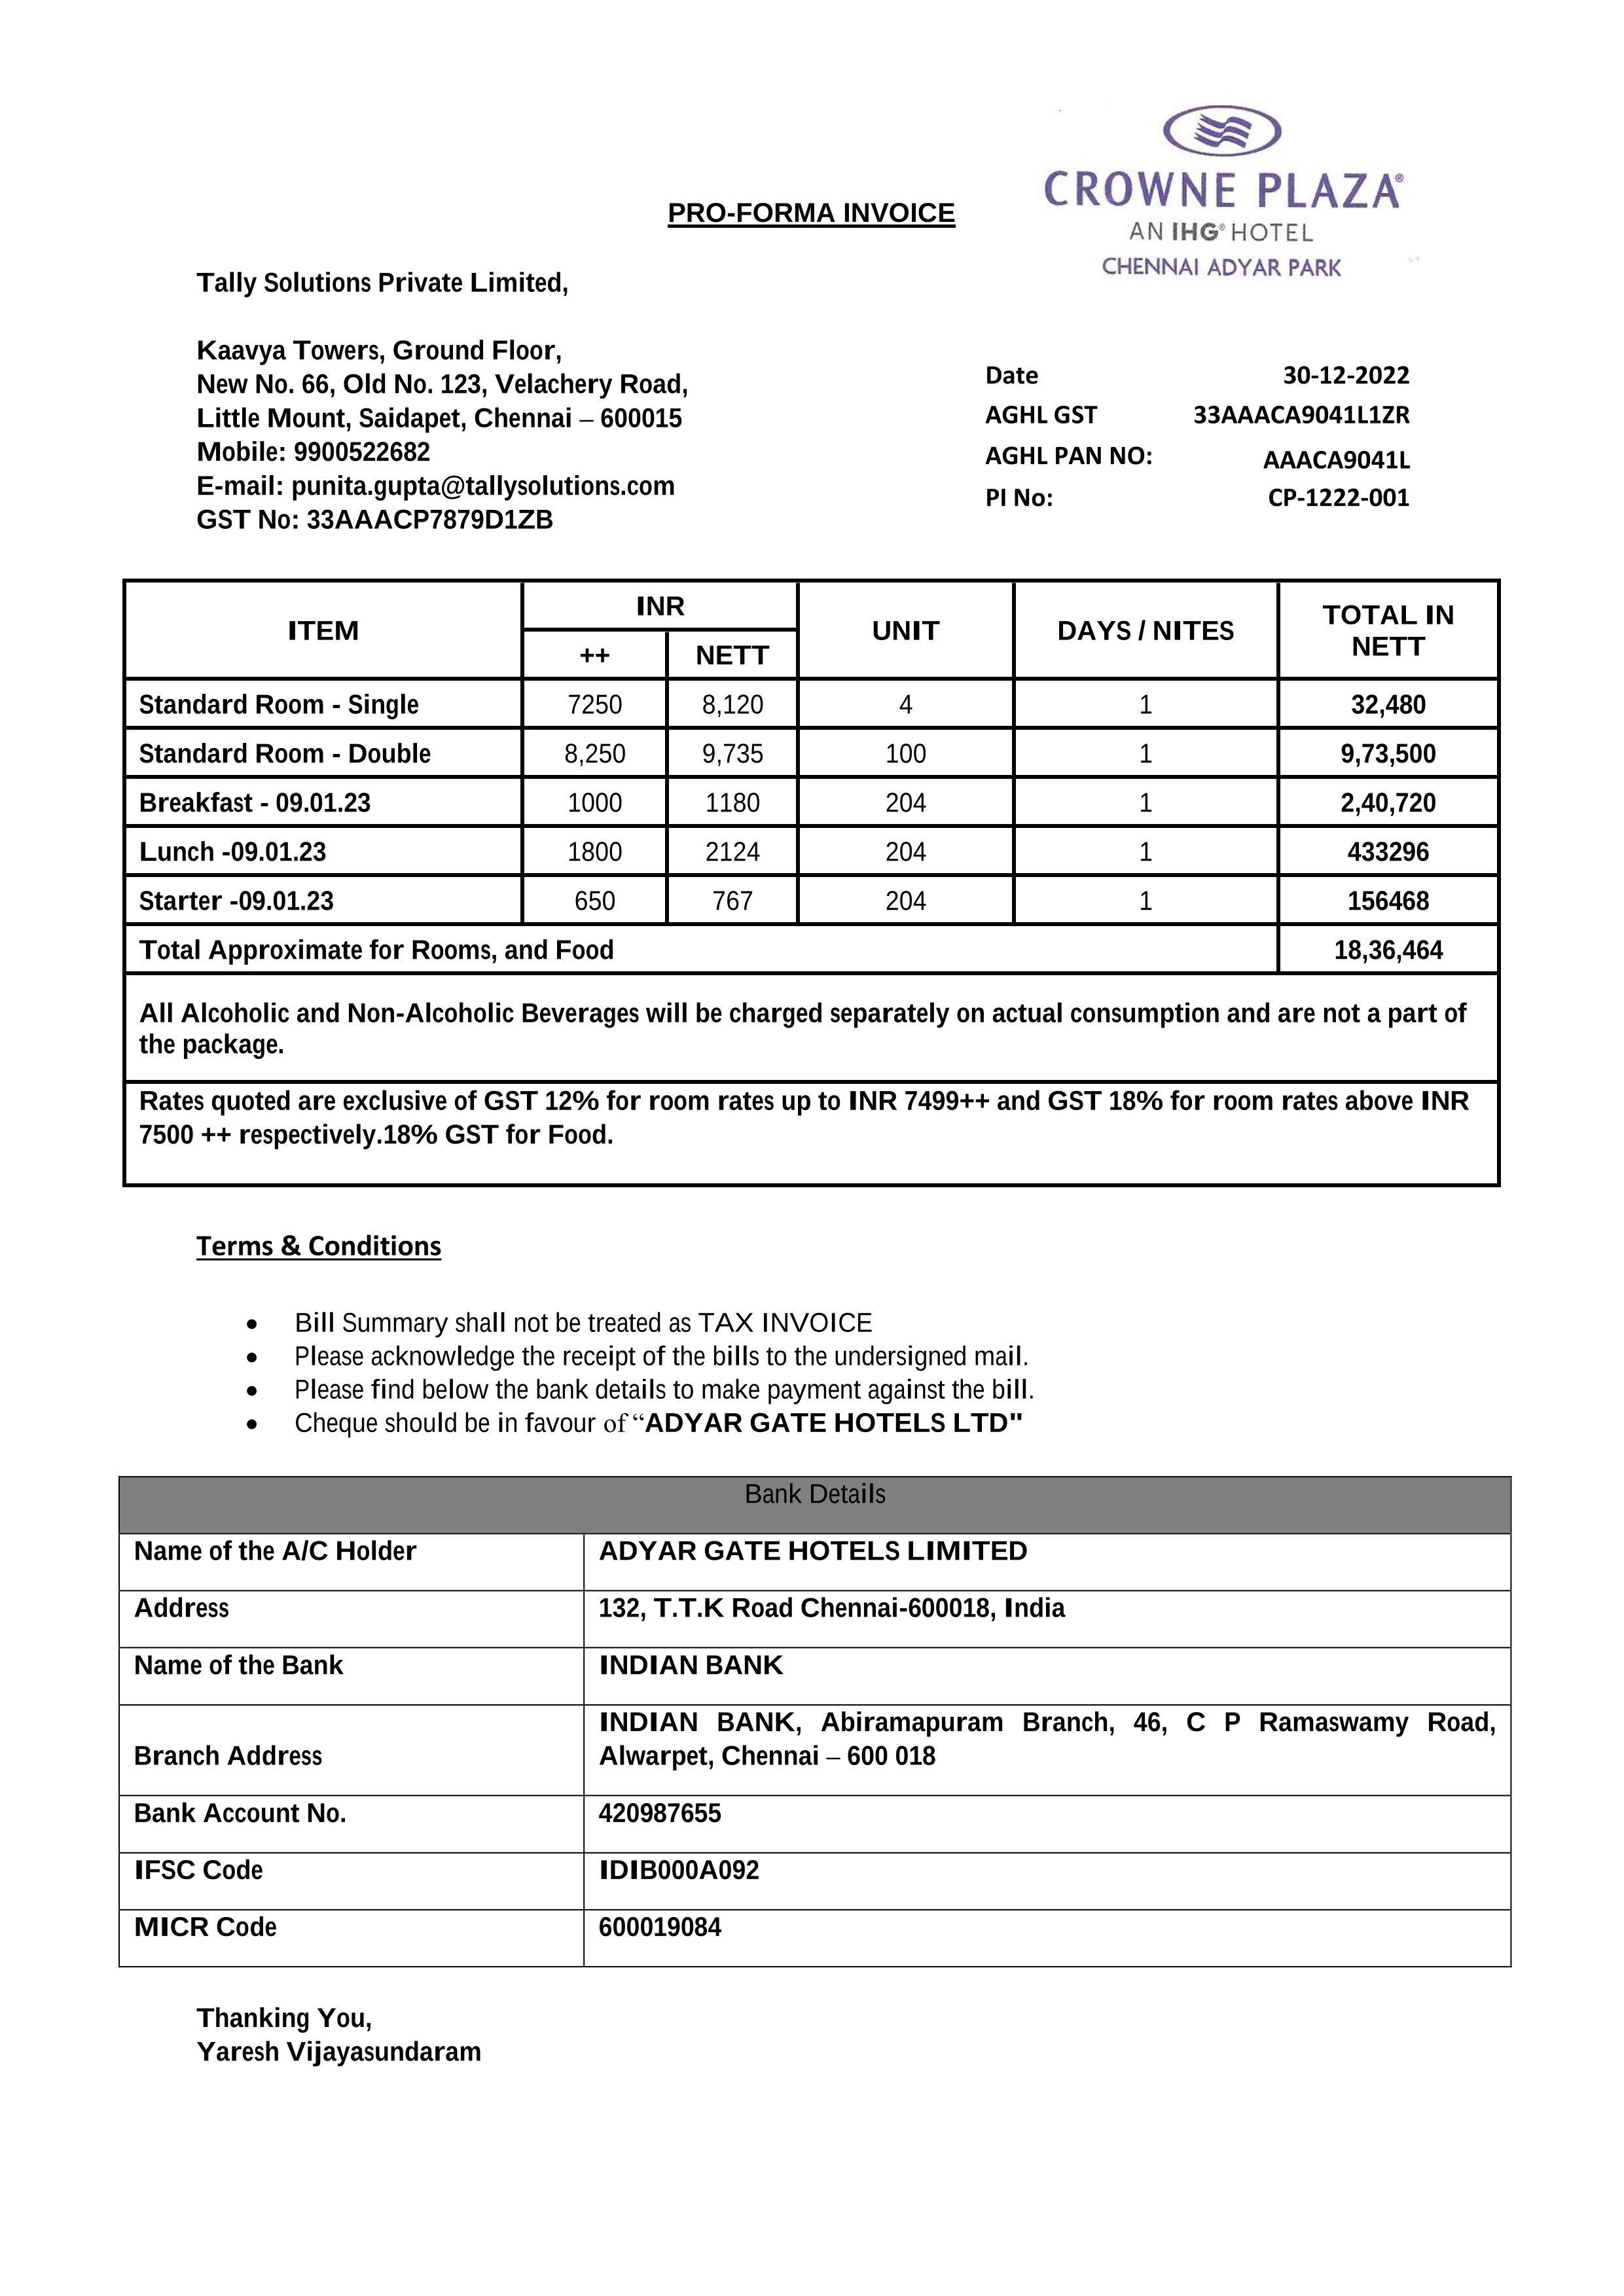InvoiceDate: (1272, 355, 1417, 392)
TotalAmount: (1332, 933, 1452, 968)
